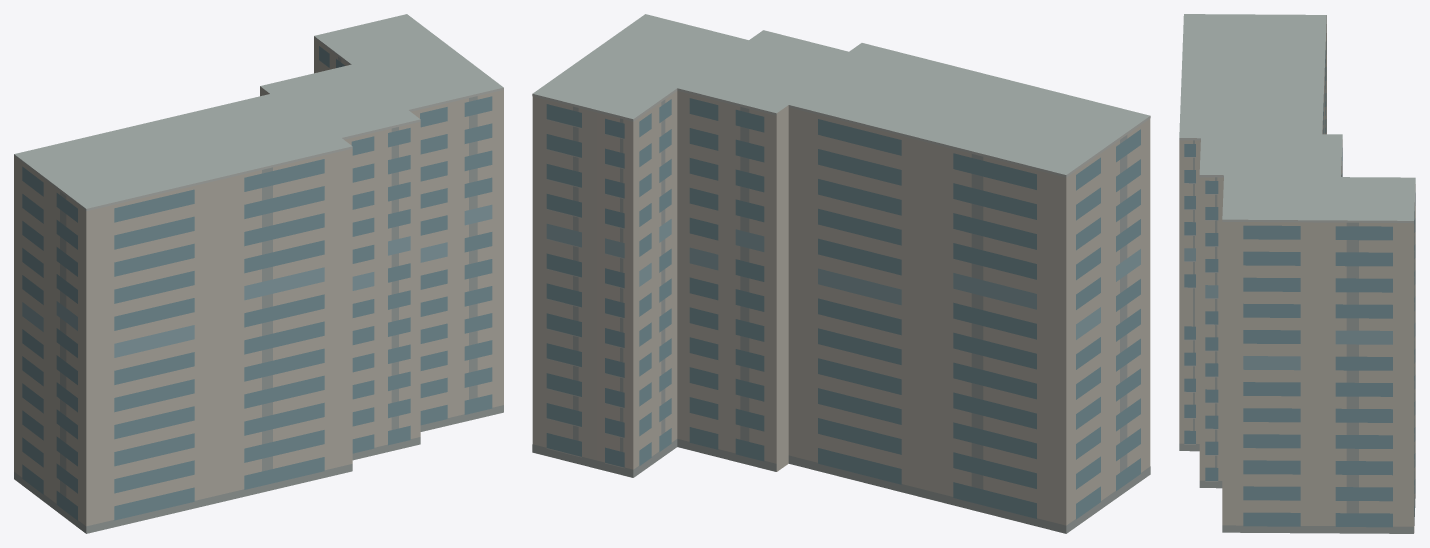
File: residential-e95d2579-b43a-4805-92fb-d06d7e414a27.glb
3 views of the same model, side by side, from view 1: azimuth 30°, elevation 25°; view 2: azimuth 150°, elevation 25°; view 3: azimuth 270°, elevation 25° (orthographic). The views are drawn at different scales.
Parts seen in each view (by area): view 1: residential-e95d2579-b43a-4805-92fb-d06d7e414a27.tmp; view 2: residential-e95d2579-b43a-4805-92fb-d06d7e414a27.tmp; view 3: residential-e95d2579-b43a-4805-92fb-d06d7e414a27.tmp.
Part boxes in pixels (<box>): residential-e95d2579-b43a-4805-92fb-d06d7e414a27.tmp: <box>14,14,503,533</box>; residential-e95d2579-b43a-4805-92fb-d06d7e414a27.tmp: <box>532,14,1150,533</box>; residential-e95d2579-b43a-4805-92fb-d06d7e414a27.tmp: <box>1179,14,1415,533</box>.
Size of the model in its own units: 48.21 by 34 by 23.29.
